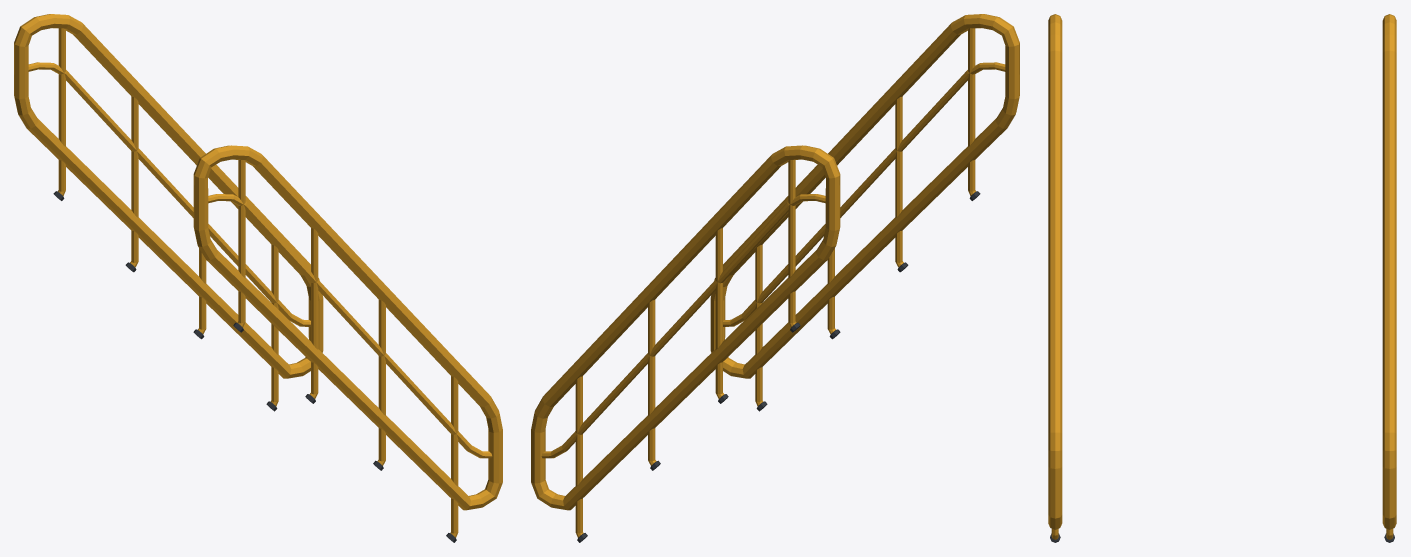
The model's file is Railing_Stairs_2m.fbx.
The picture shows the model from 3 angles, left to right: view 1: azimuth 30°, elevation 25°; view 2: azimuth 150°, elevation 25°; view 3: azimuth 270°, elevation 25°; orthographic projection. The views are drawn at different scales.
Visible parts, largest first — view 1: Railing_Stairs_2m; view 2: Railing_Stairs_2m; view 3: Railing_Stairs_2m.
Part boxes in pixels (x1,y1,x2,y2): Railing_Stairs_2m: [14, 14, 502, 542]; Railing_Stairs_2m: [531, 14, 1019, 542]; Railing_Stairs_2m: [1048, 14, 1396, 542].
Bounding box in the file's own units: 188 × 264 × 198.
